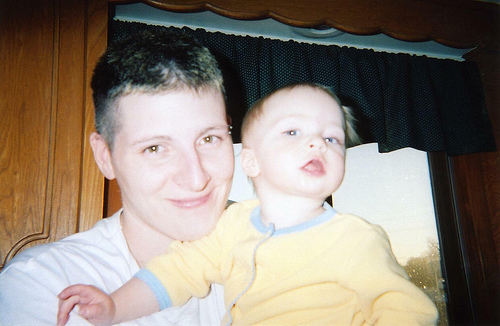without_mask: (81, 44, 241, 243), (235, 76, 375, 214)
